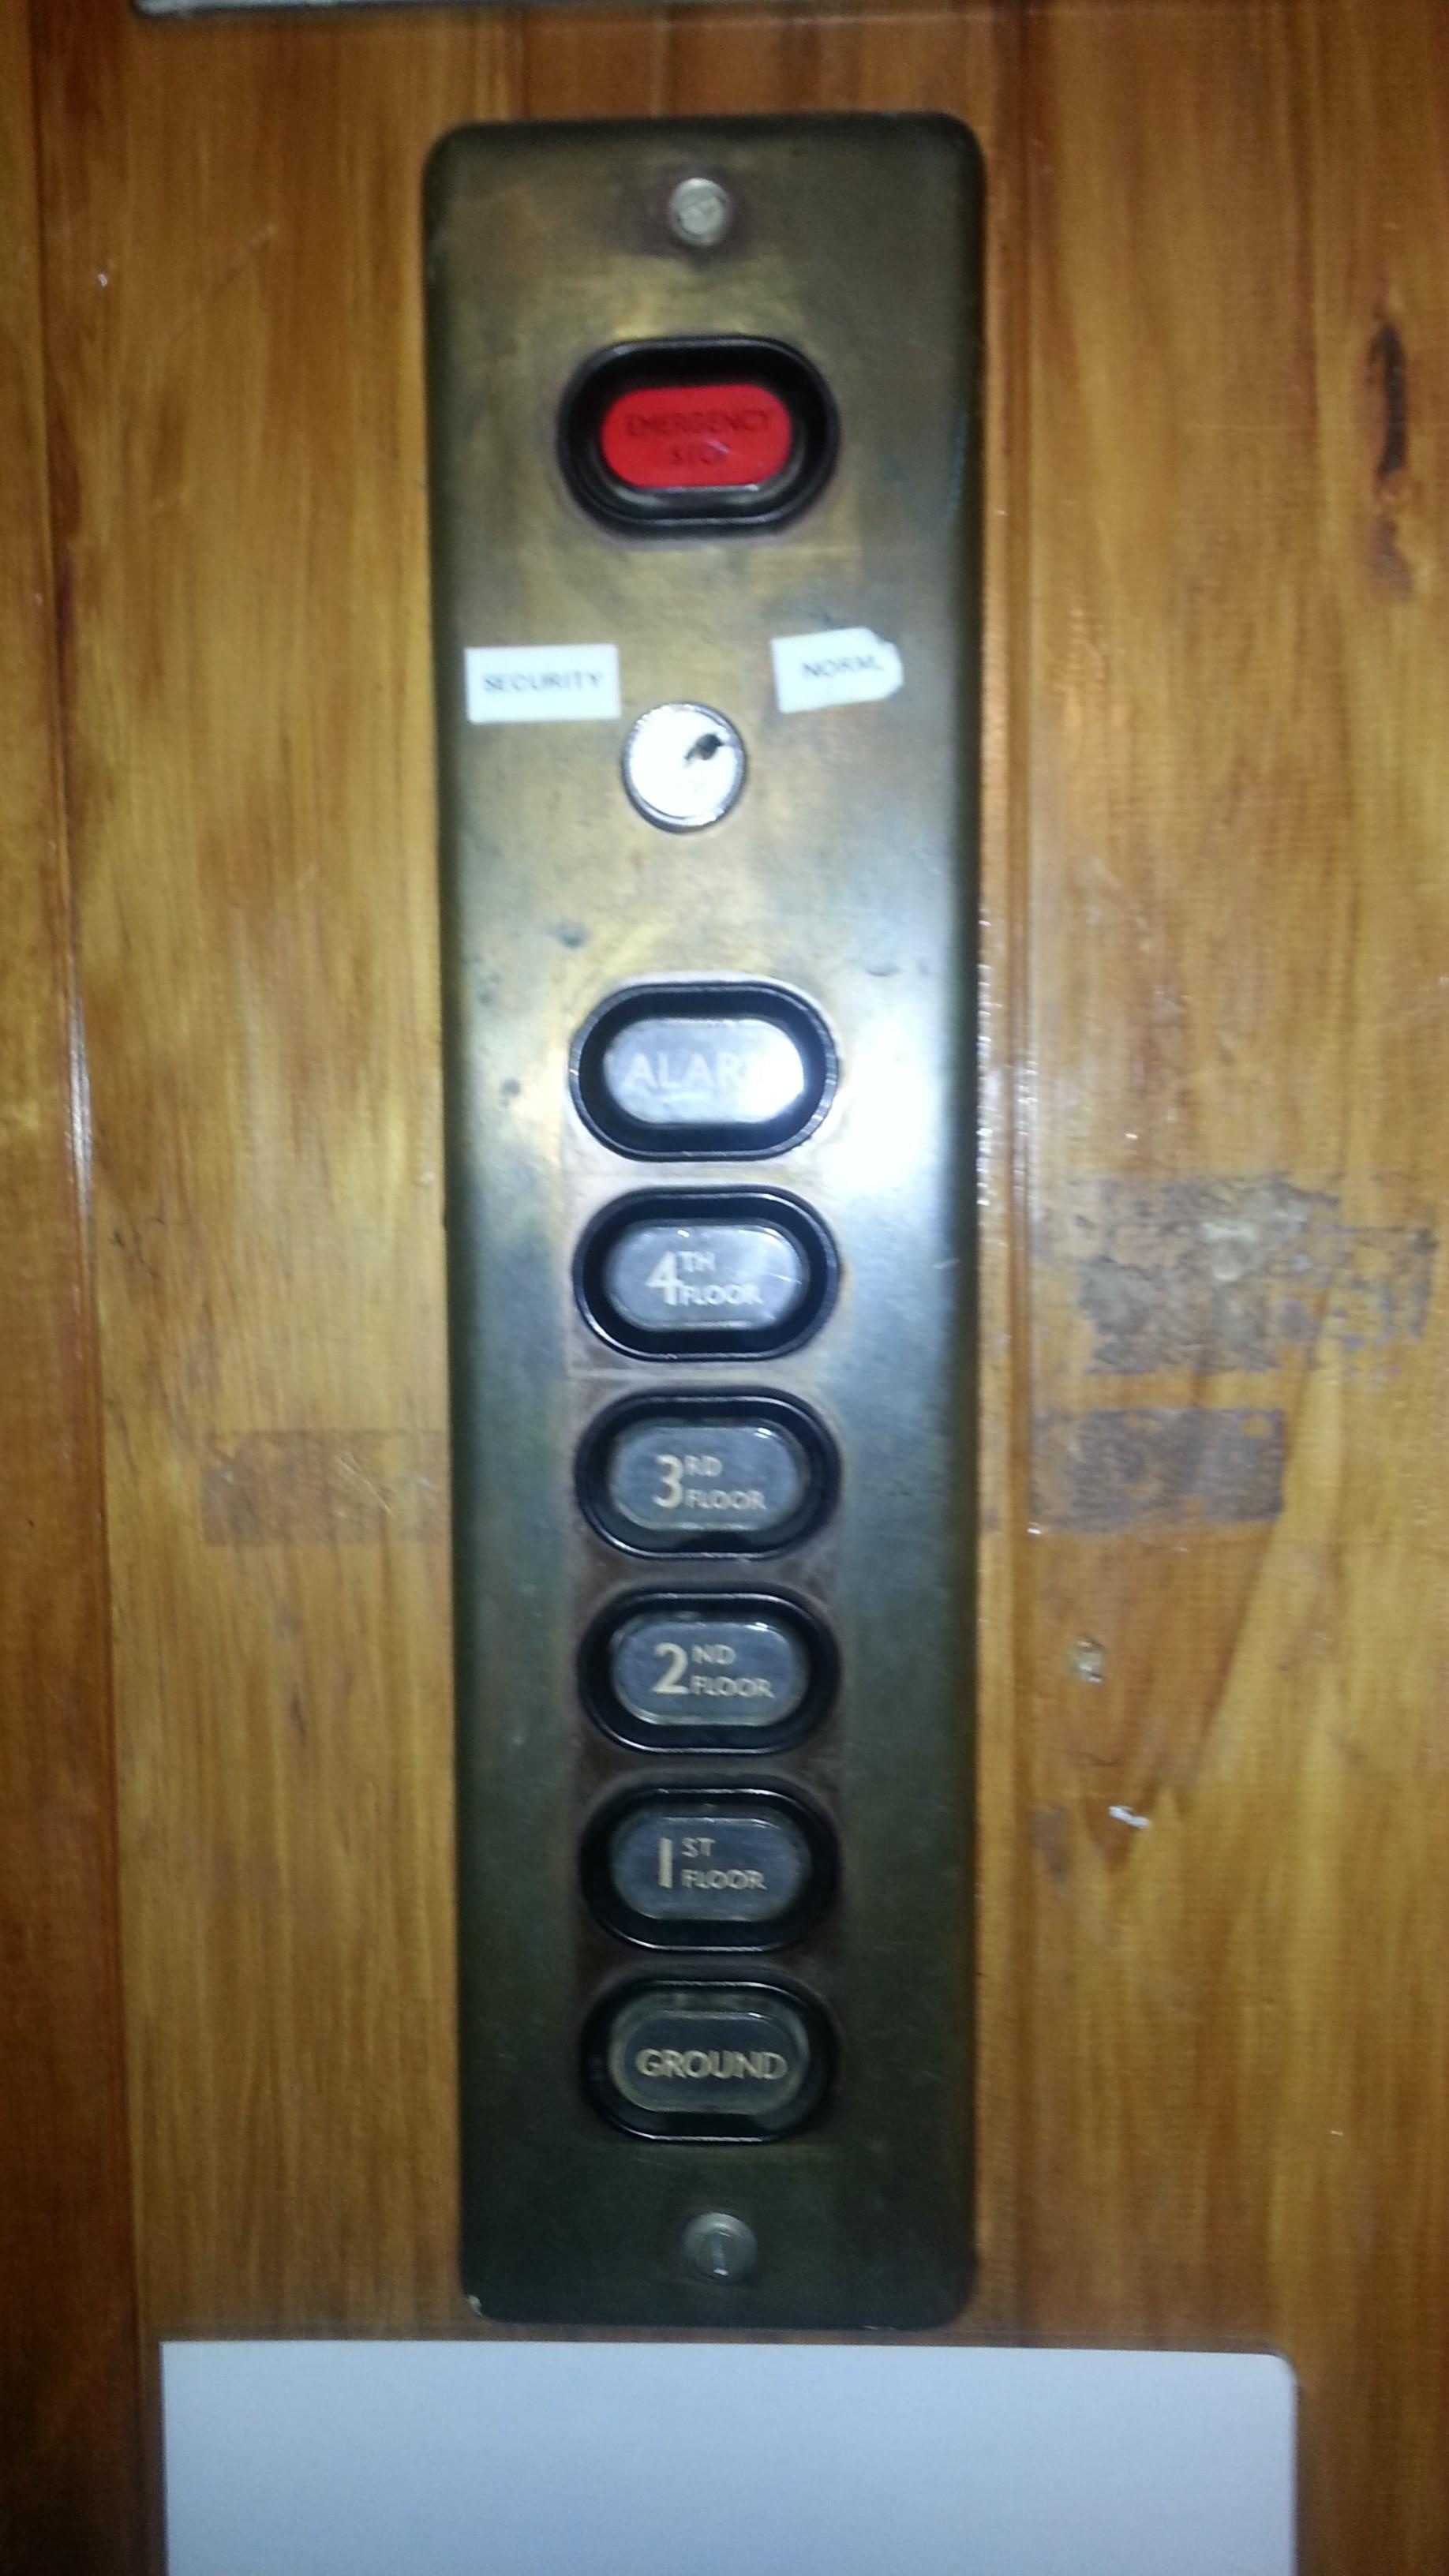1: (577, 1767, 842, 1951)
2: (577, 1585, 842, 1755)
3: (575, 1389, 840, 1559)
4: (570, 1185, 839, 1362)
keyhole: (617, 697, 750, 837)
text_alarm: (564, 978, 839, 1161)
text_emergency: (556, 334, 844, 538)
text_ground: (575, 1964, 842, 2144)
